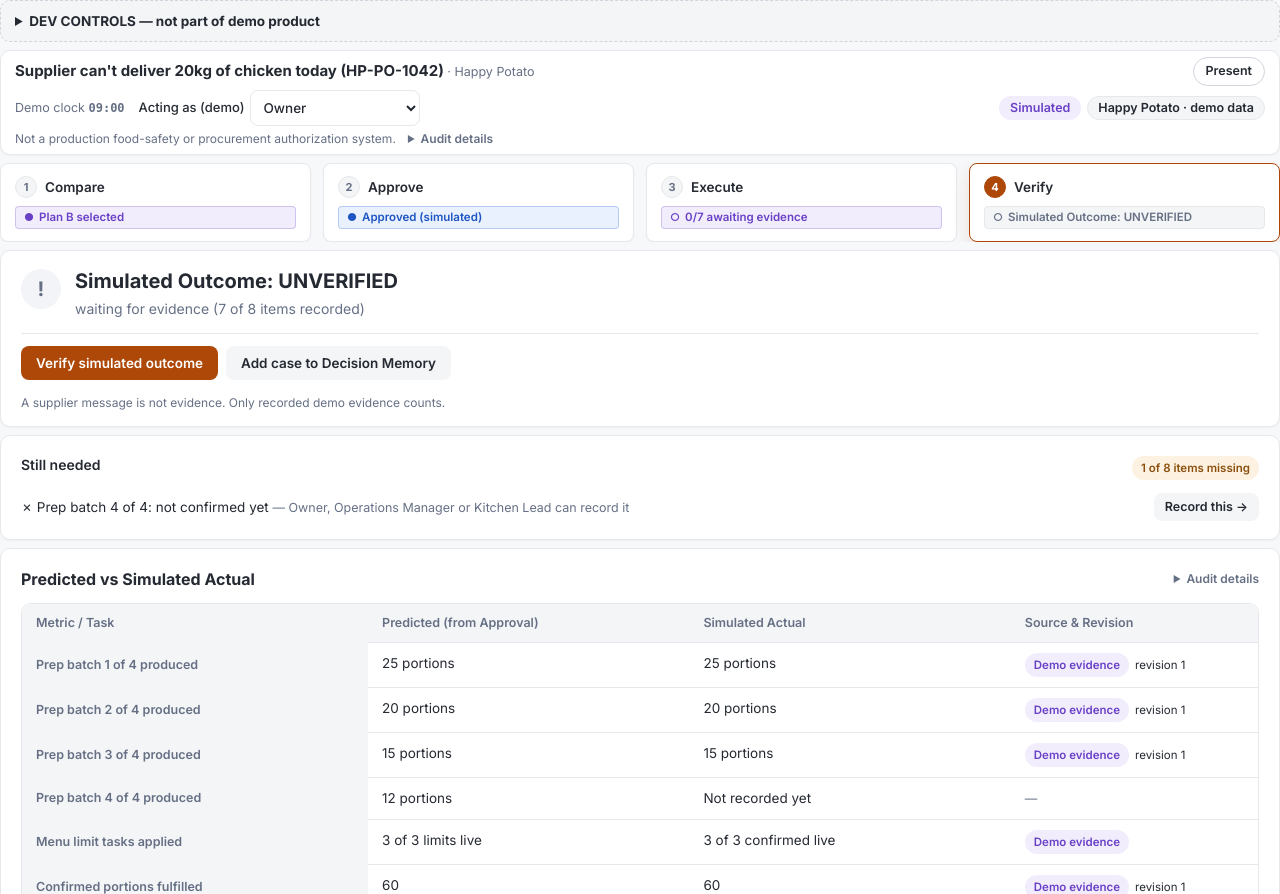
Scenario: P5 Acceptance Matrix: P5-T01 through P5-T18 › P5-T10: returns PARTIAL (never SUCCESS) when Plan B has only 3 of 4 prep batches evidenced
What coordinates should you click on to do the following:
click the button "Verify simulated outcome"
I would click on:
 (120, 363)
Its box is [21,346,218,380].
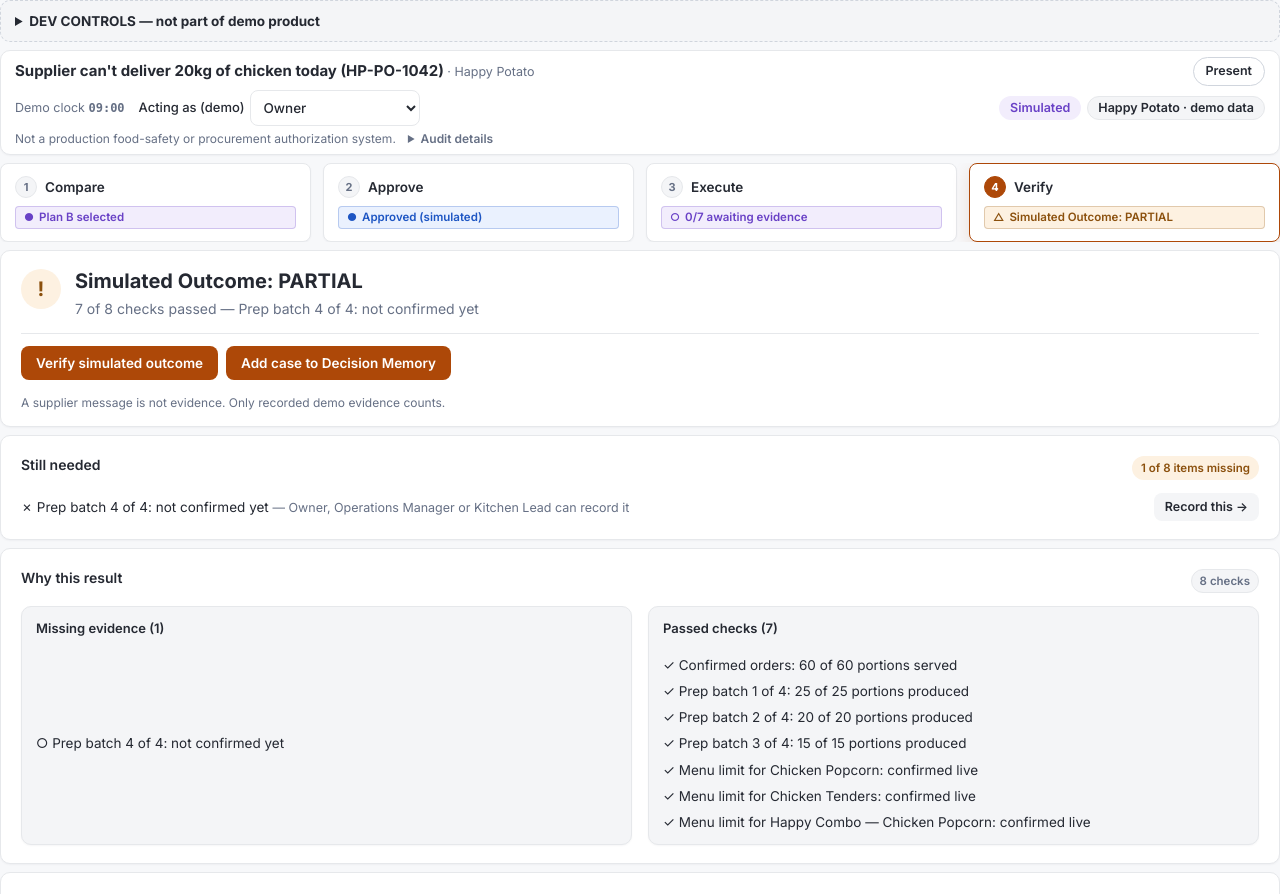
Expected: the text with test id "p5-outcome-badge" shows "PARTIAL", [278,269,363,293]
Expected: the text "7 of 8 checks passed — Prep batch 4 of 4: not confirmed yet" is shown, [75,298,479,319]
